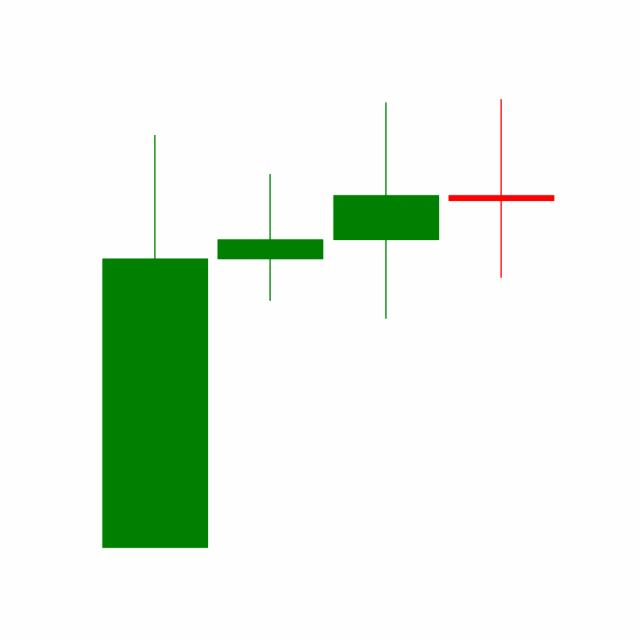Spinning Top: (328, 100, 444, 321)
